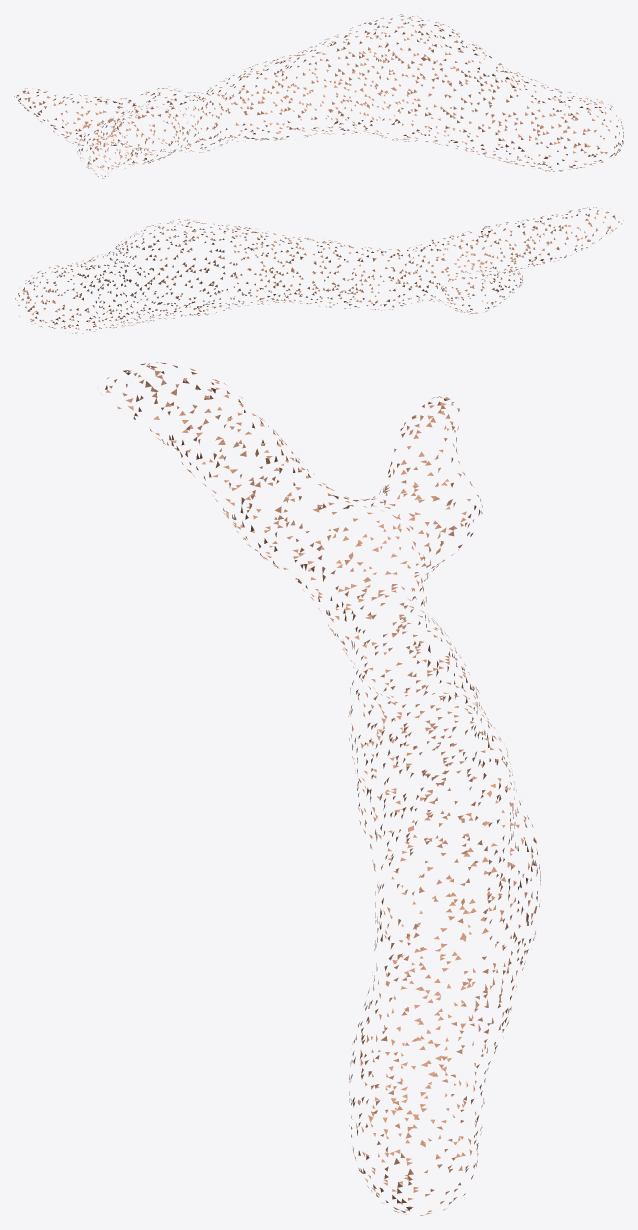
Rendered from morph_004.glb.
3 views of the same model, one above another, from view 1: azimuth 30°, elevation 25°; view 2: azimuth 150°, elevation 25°; view 3: azimuth 270°, elevation 25° (orthographic). The views are drawn at different scales.
Size of the model in its own units: 130 by 43.98 by 47.57.
